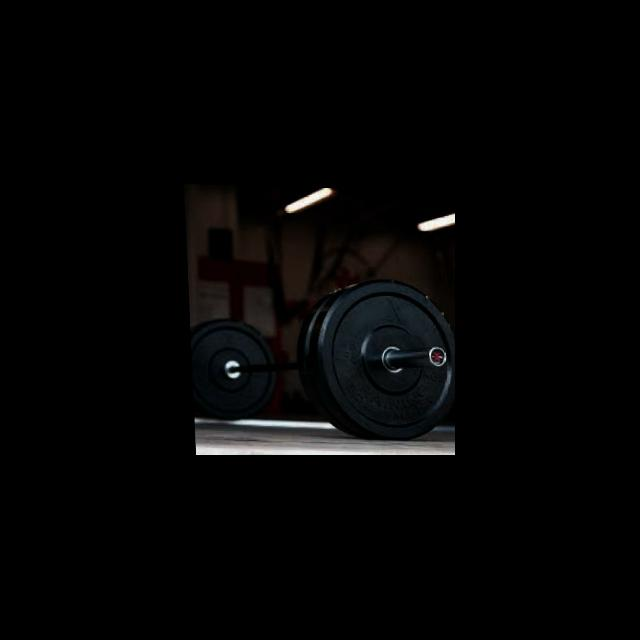barbell: (309, 275, 455, 444)
